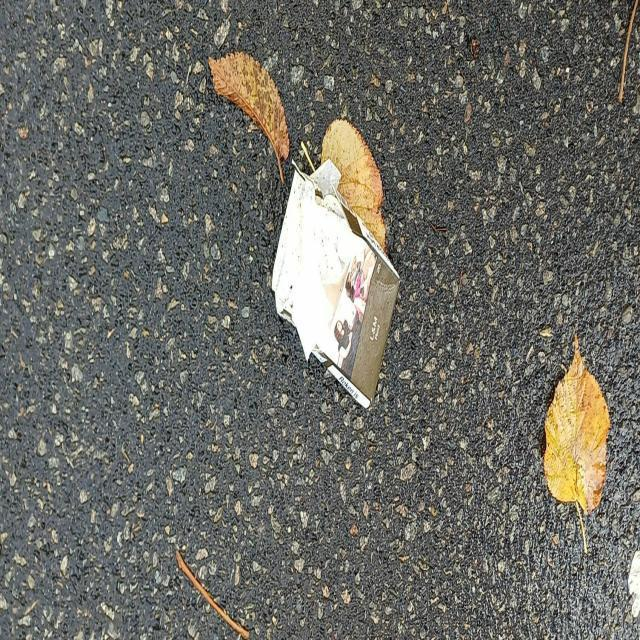Paper: (268, 153, 402, 414)
